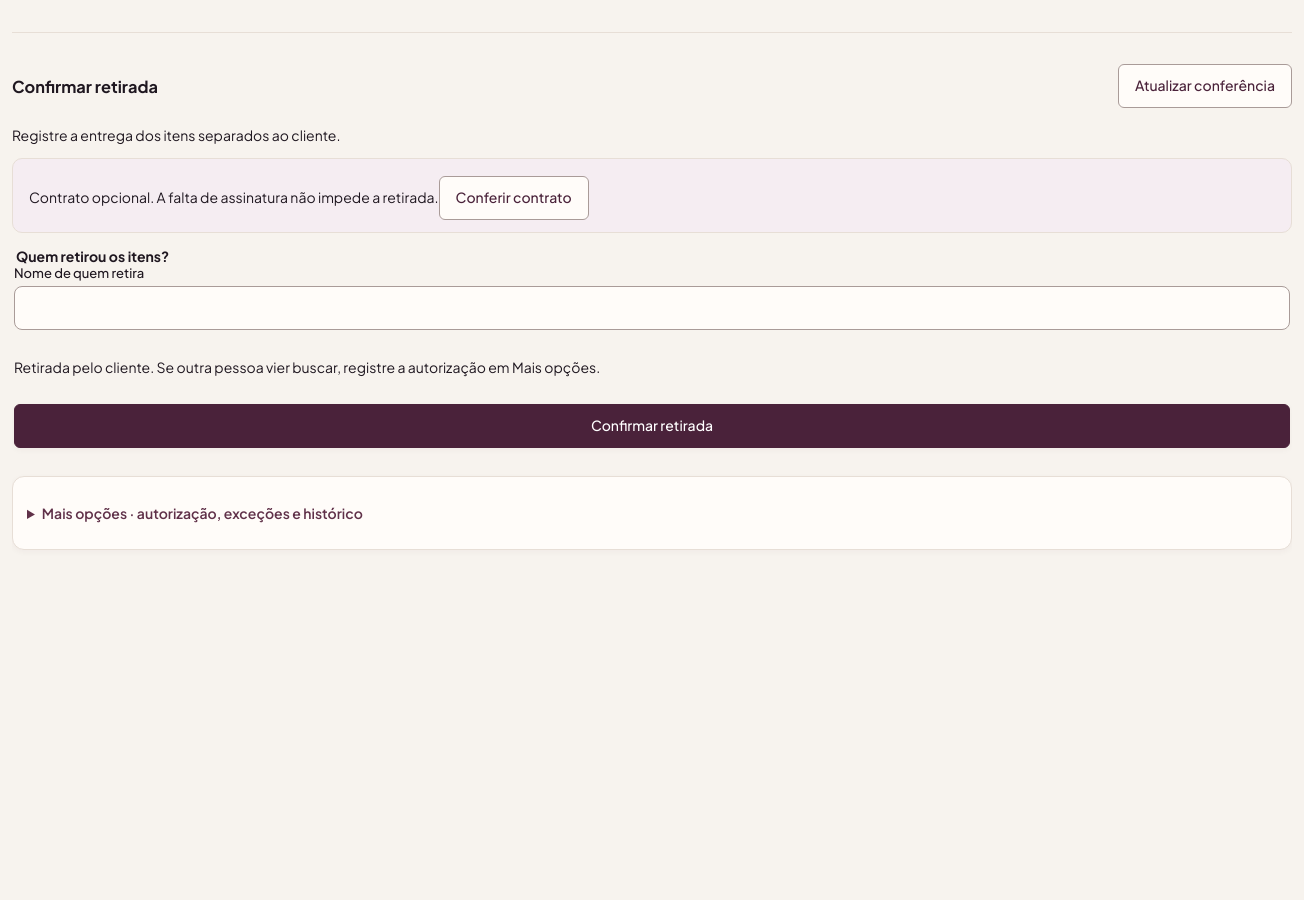
Test: allows an ordinary pickup without a contract or signature
Type "Cliente sintético" into the field labelled "Nome de quem retira" at (652,308), box left=14, top=286, right=1290, bottom=330
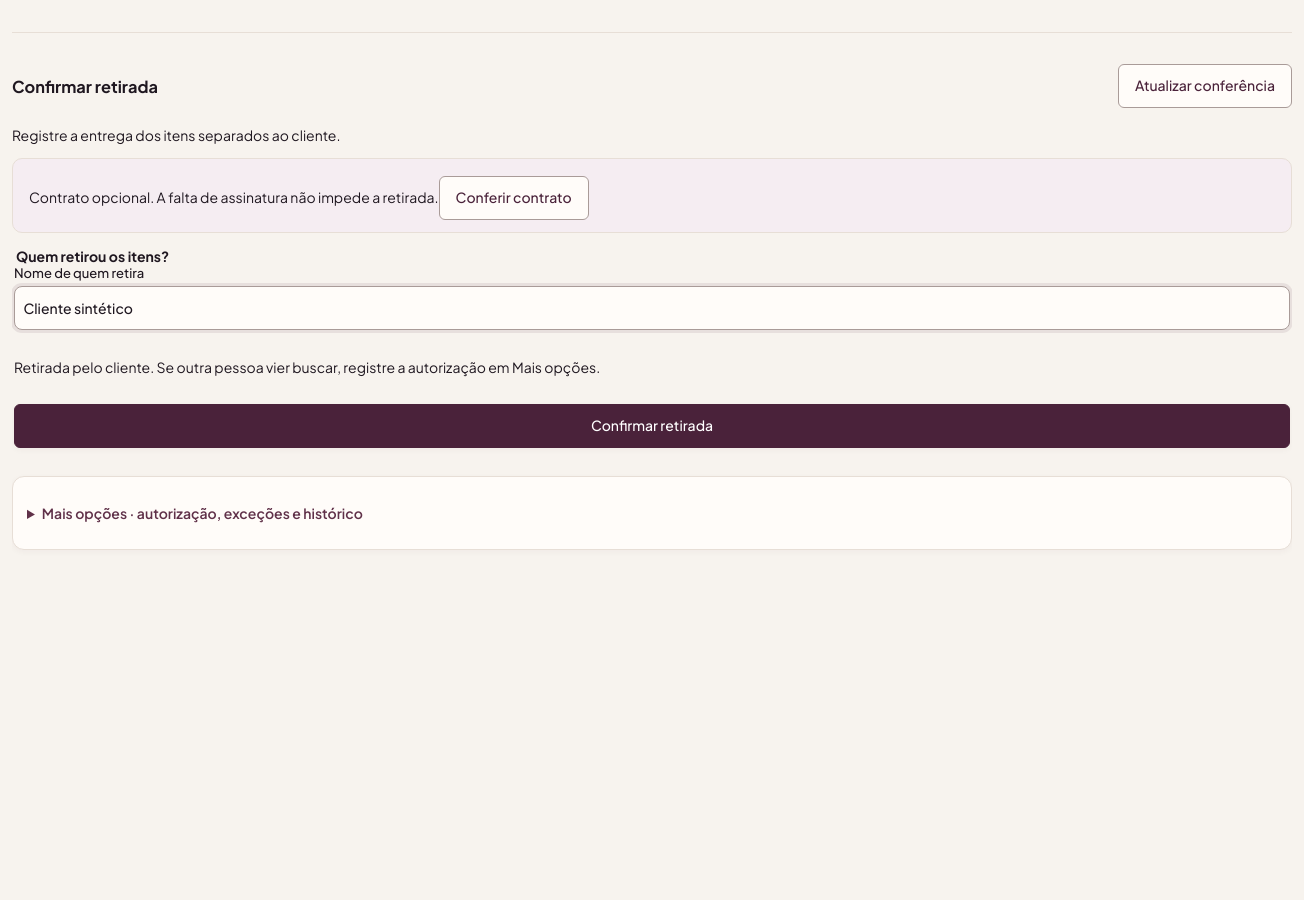
Expected: the text "Contrato opcional" is shown, left=29, top=188, right=439, bottom=206
Click the button "Confirmar retirada" at (652,426), box left=14, top=404, right=1290, bottom=448
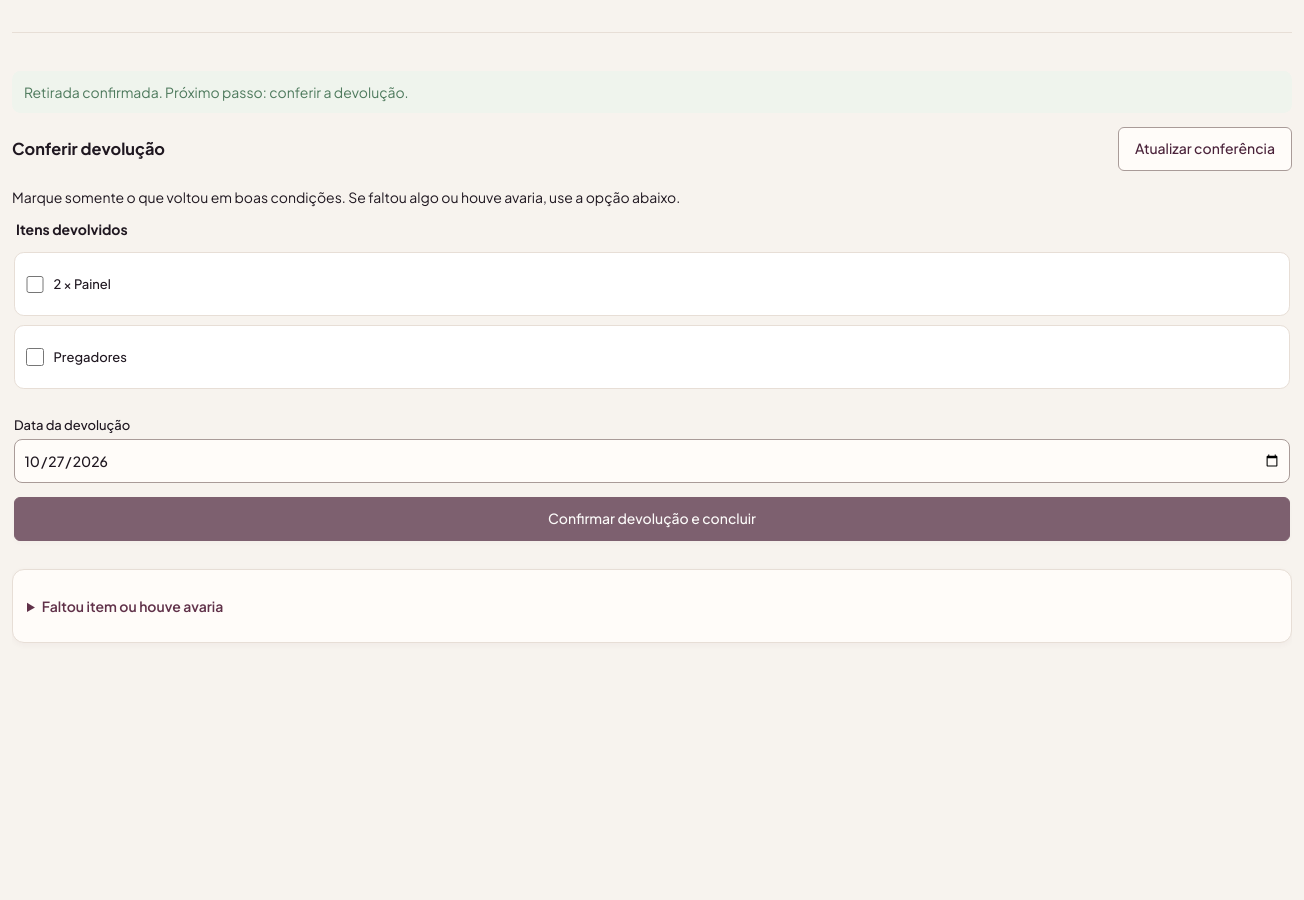
Result: the text "Retirada confirmada. Próximo passo: conferir a devolução." is shown at left=12, top=71, right=1292, bottom=113
